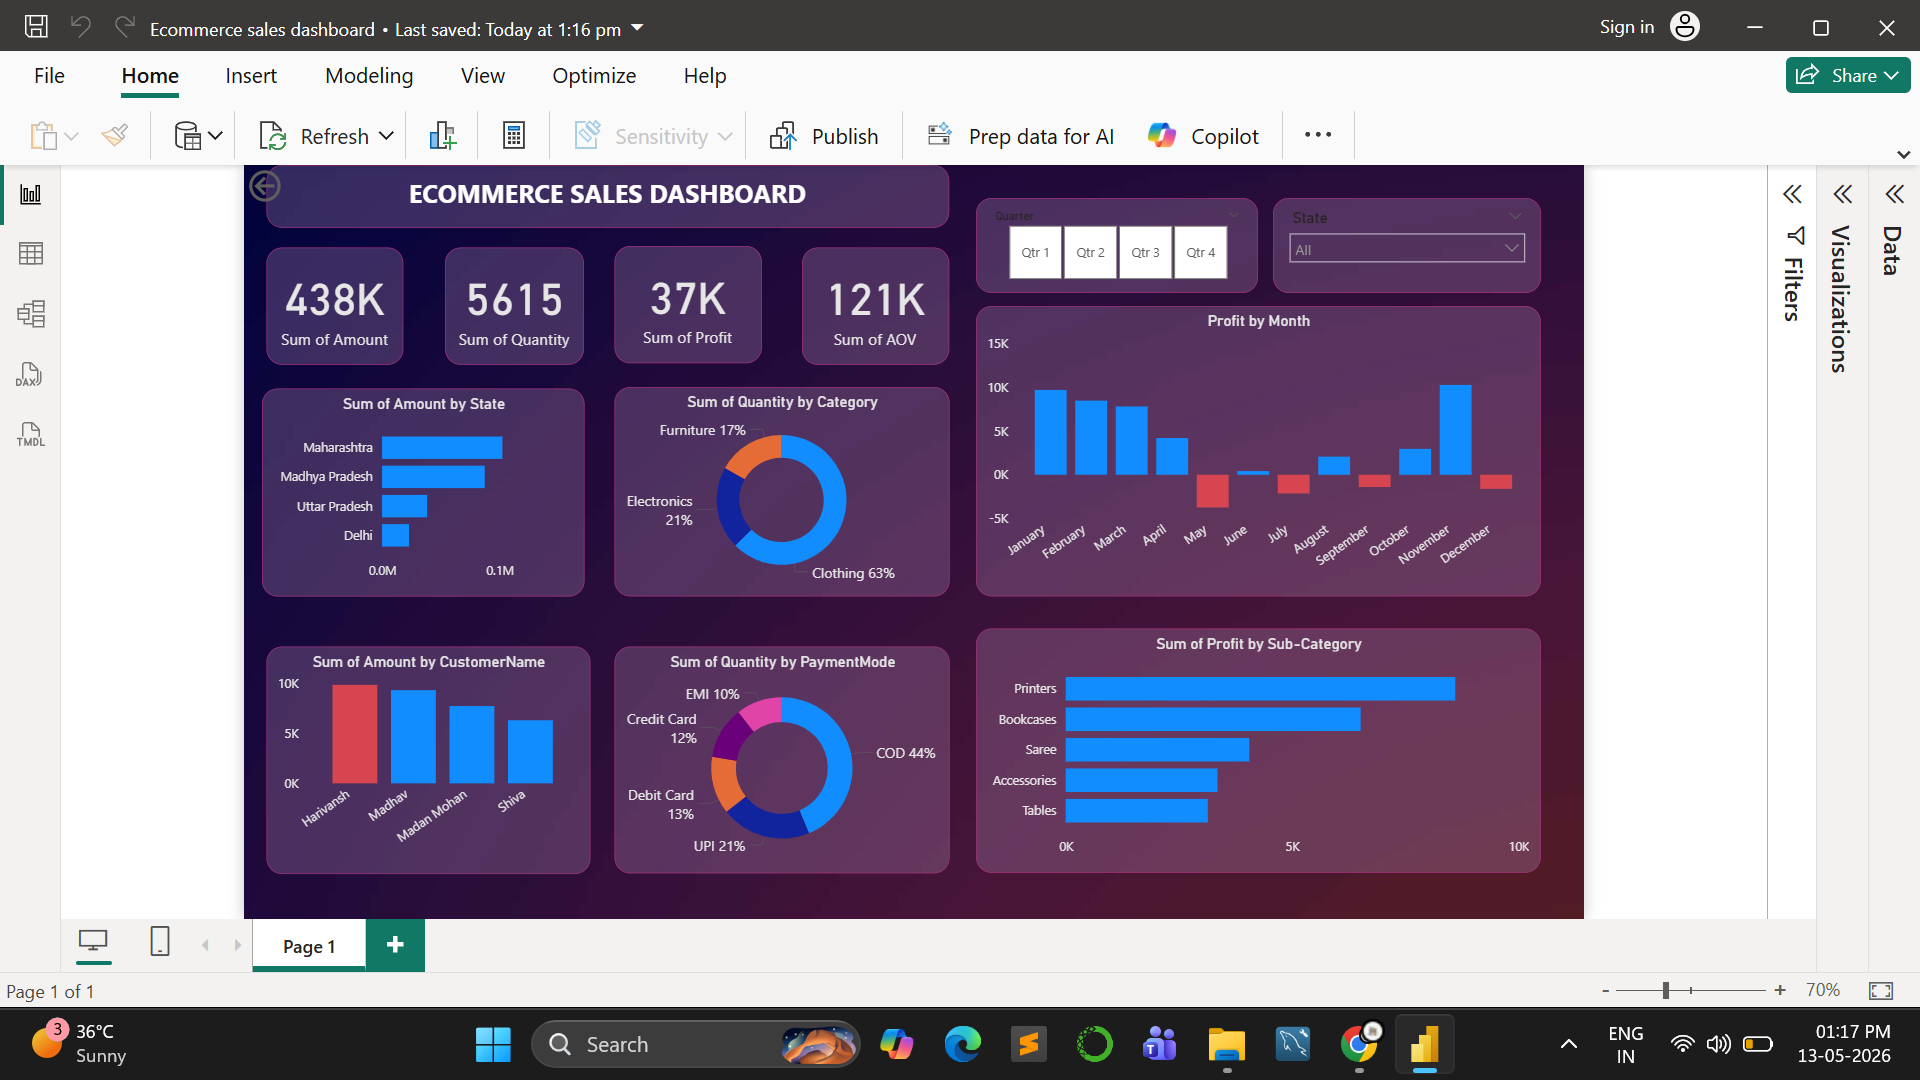

The page's visual inventory and layout, read from the dashboard file:
{"tool":"powerbi","page":{"name":"Page 1","canvas":[1280,720],"ordinal":0},"visuals":[{"type":"textbox","box":[21.5,0,651.7,60.2],"z":0},{"type":"columnChart","title":"Profit by Month","fields":{"Category":["Orders (1).Order Date.Variation.Date Hierarchy.Month"],"Y":["Sum(Details (1).Profit)"]},"box":[699.1,134.8,539.2,277.3],"z":1000},{"type":"barChart","fields":{"Category":["Details (1).Sub-Category"],"Y":["Sum(Details (1).Profit)"]},"box":[699.1,442.9,539.2,233],"z":2000},{"type":"donutChart","fields":{"Category":["Details (1).Category"],"Y":["Sum(Details (1).Quantity)"]},"box":[354.3,211.8,319.7,200.3],"z":3000},{"type":"donutChart","fields":{"Category":["Details (1).PaymentMode"],"Y":["Sum(Details (1).Quantity)"]},"box":[354.2,459.7,320.3,216.7],"z":4000},{"type":"card","fields":{"Values":["Sum(Details (1).Amount)"]},"box":[21.2,79,131,111.7],"z":5000},{"type":"card","fields":{"Values":["Sum(Details (1).Quantity)"]},"box":[192.6,79,132.9,111.7],"z":6000},{"type":"card","fields":{"Values":["Sum(Details (1).Profit)"]},"box":[354.3,77,140.6,111.7],"z":7000},{"type":"card","fields":{"Values":["Sum(Details (1).AOV)"]},"box":[533.4,79,140.6,111.7],"z":8000},{"type":"barChart","fields":{"Category":["Orders (1).State"],"Y":["Sum(Details (1).Amount)"]},"box":[17.3,213.8,308.1,198.4],"z":9000},{"type":"columnChart","fields":{"Category":["Orders (1).CustomerName"],"Y":["Sum(Details (1).Amount)"]},"box":[21,460,309,217],"z":10000},{"type":"slicer","fields":{"Values":["Orders (1).Order Date.Variation.Date Hierarchy.Quarter"]},"box":[699.1,30.8,269.6,90.5],"z":11000},{"type":"slicer","fields":{"Values":["Orders (1).State"]},"box":[982.2,30.8,256.1,90.5],"z":12000},{"type":"actionButton","box":[0,0,100,40],"z":13000}]}

Visuals, with their boxes on the page's 1280x720 design canvas (x1, y1, x2, y2). These are canvas units, not pixel positions in the 1920x1080 screenshot, which may show the page scaled, cropped or inside an application window:
textbox: <region>22, 0, 673, 60</region>
"Profit by Month" columnChart: <region>699, 135, 1238, 412</region>
barChart - Details (1).Sub-Category x Sum(Details (1).Profit): <region>699, 443, 1238, 676</region>
donutChart - Details (1).Category x Sum(Details (1).Quantity): <region>354, 212, 674, 412</region>
donutChart - Details (1).PaymentMode x Sum(Details (1).Quantity): <region>354, 460, 674, 676</region>
card - Sum(Details (1).Amount): <region>21, 79, 152, 191</region>
card - Sum(Details (1).Quantity): <region>193, 79, 326, 191</region>
card - Sum(Details (1).Profit): <region>354, 77, 495, 189</region>
card - Sum(Details (1).AOV): <region>533, 79, 674, 191</region>
barChart - Orders (1).State x Sum(Details (1).Amount): <region>17, 214, 325, 412</region>
columnChart - Orders (1).CustomerName x Sum(Details (1).Amount): <region>21, 460, 330, 677</region>
slicer - Orders (1).Order Date.Variation.Date Hierarchy.Quarter: <region>699, 31, 969, 121</region>
slicer - Orders (1).State: <region>982, 31, 1238, 121</region>
actionButton: <region>0, 0, 100, 40</region>
